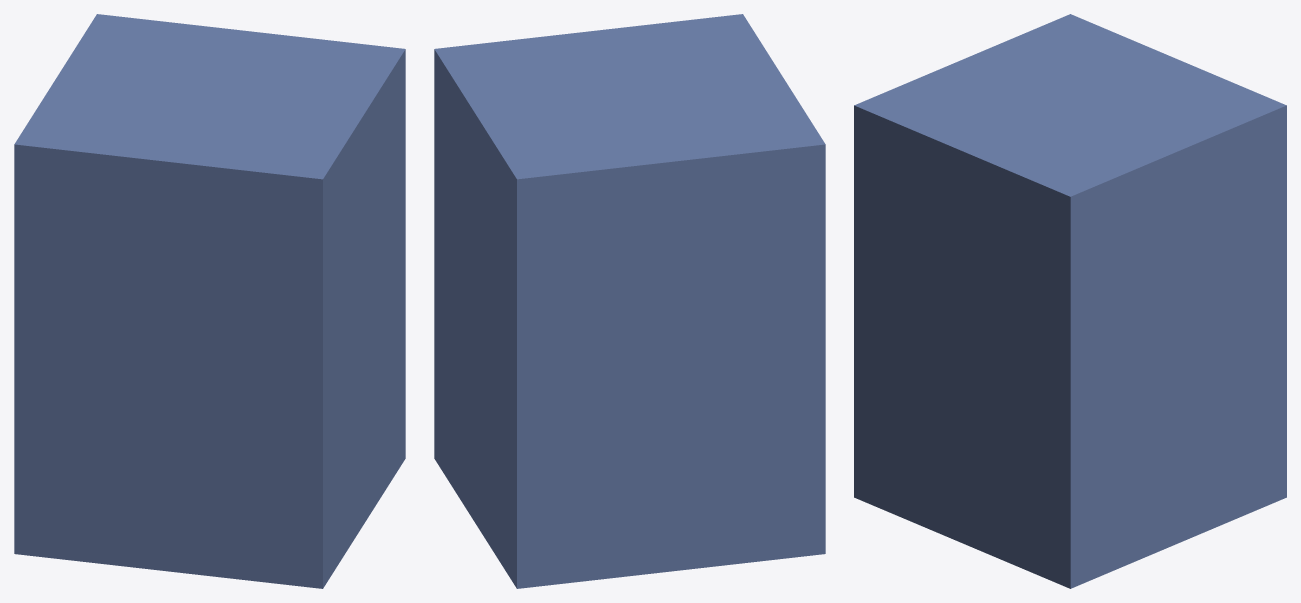
The model's file is layang.glb.
The picture shows the model from 3 angles, left to right: view 1: azimuth 30°, elevation 25°; view 2: azimuth 150°, elevation 25°; view 3: azimuth 270°, elevation 25°; orthographic projection. The views are drawn at different scales.
Parts seen in each view (by area): view 1: Mesh_Mesh_head_geo.001_lambert2SG.001; view 2: Mesh_Mesh_head_geo.001_lambert2SG.001; view 3: Mesh_Mesh_head_geo.001_lambert2SG.001.
Part boxes in pixels (left/top/right/bottom): Mesh_Mesh_head_geo.001_lambert2SG.001: left=14, top=14, right=405, bottom=588; Mesh_Mesh_head_geo.001_lambert2SG.001: left=434, top=14, right=825, bottom=588; Mesh_Mesh_head_geo.001_lambert2SG.001: left=854, top=14, right=1286, bottom=588.
Size of the model in its own units: 20 by 20 by 20.
